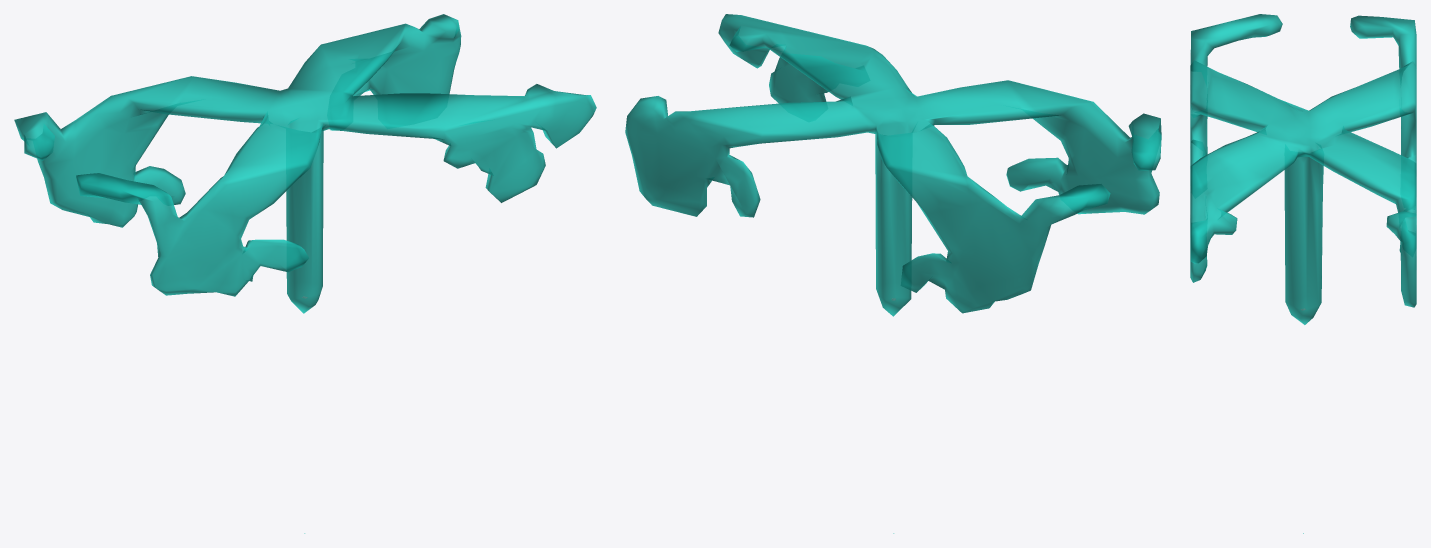
3 renders of one model, left to right at view 1: azimuth 30°, elevation 25°; view 2: azimuth 150°, elevation 25°; view 3: azimuth 270°, elevation 25°, orthographic. The views are drawn at different scales.
Parts seen in each view (by area): view 1: Liquid_Domain; view 2: Liquid_Domain; view 3: Liquid_Domain.
Part boxes in pixels (<box>): Liquid_Domain: <box>14,14,596,313</box>; Liquid_Domain: <box>625,14,1161,316</box>; Liquid_Domain: <box>1190,14,1416,324</box>.
Size of the model in its own units: 801 by 683 by 344.
